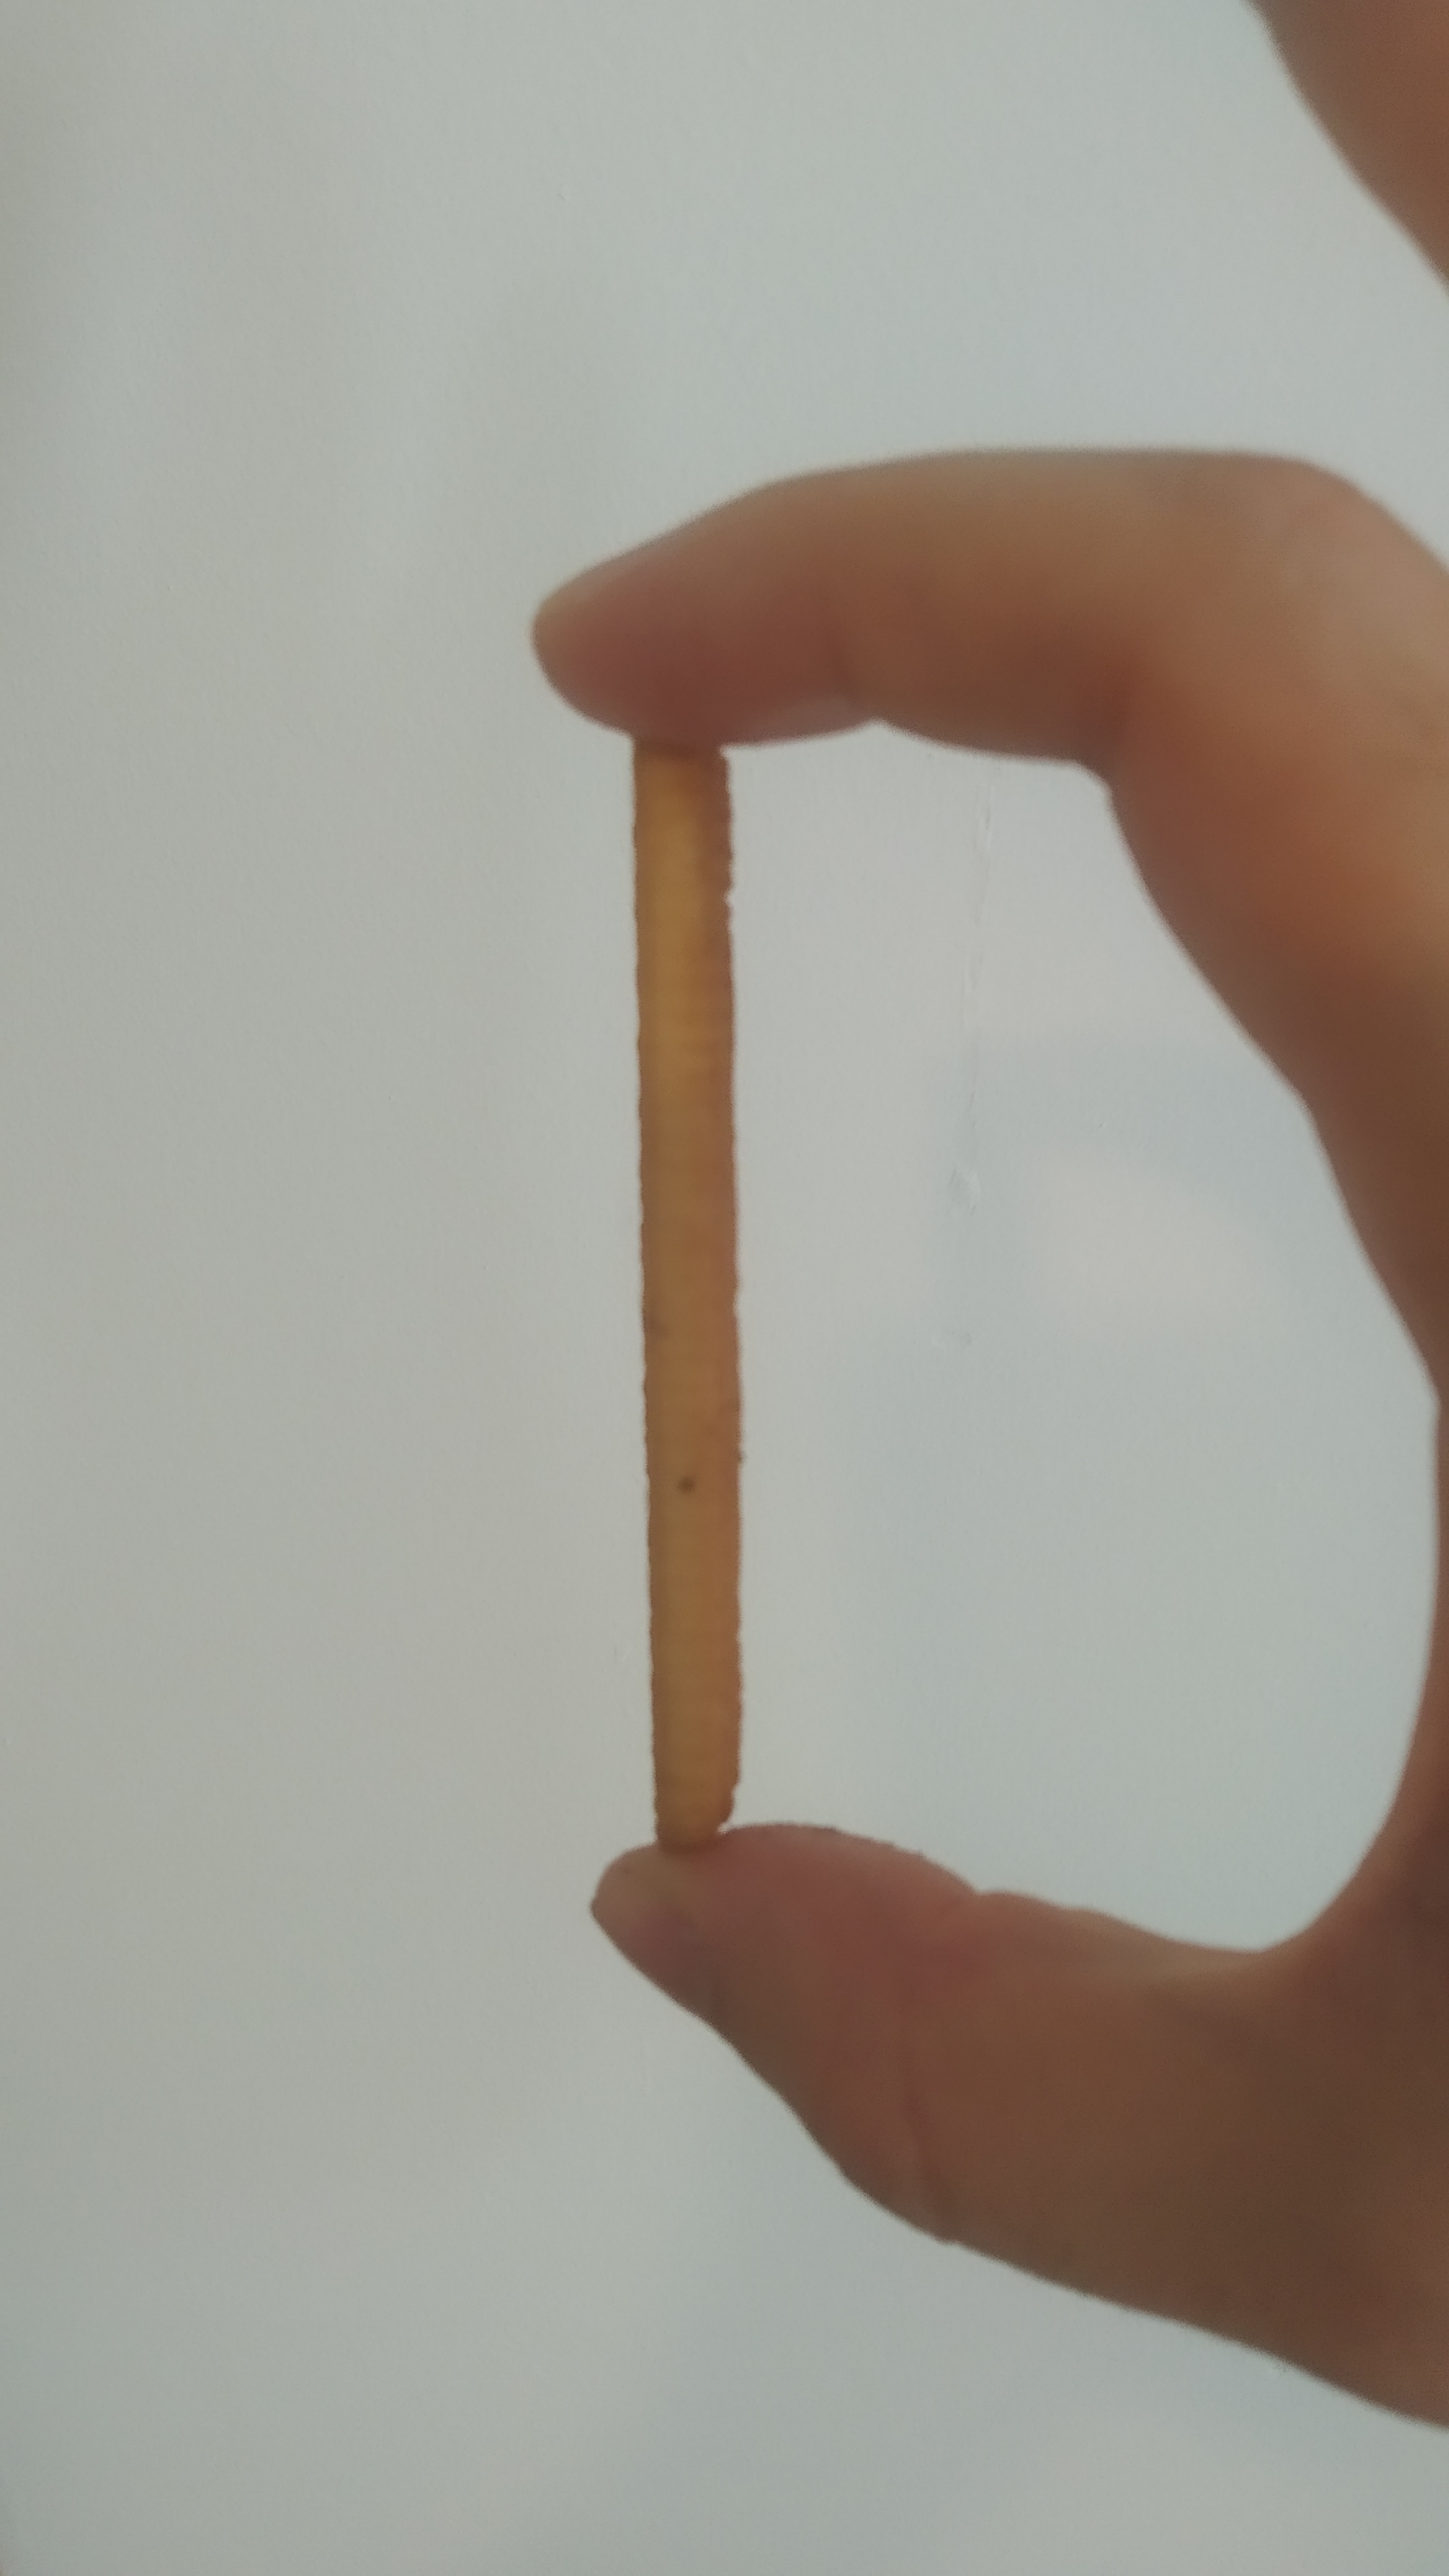solar: (630, 732, 748, 1854)
